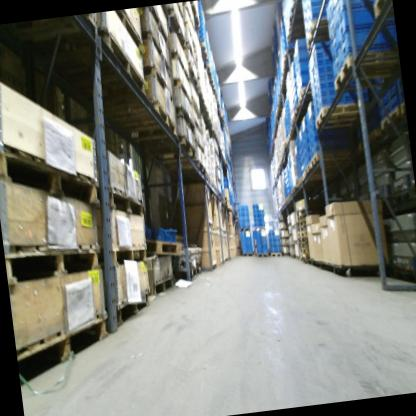pallet: (32, 27, 146, 112), (0, 128, 99, 221), (14, 310, 114, 382), (5, 240, 105, 289), (97, 96, 179, 148), (330, 45, 400, 96), (18, 14, 99, 43), (312, 98, 370, 131), (139, 134, 197, 167), (109, 288, 152, 332), (320, 252, 381, 282), (100, 181, 144, 220), (141, 27, 173, 79), (141, 60, 175, 104), (112, 9, 144, 54), (309, 146, 357, 175), (165, 156, 208, 184), (301, 15, 331, 54), (145, 230, 183, 259), (107, 240, 147, 266), (142, 5, 169, 41), (166, 45, 190, 80), (303, 160, 343, 179), (165, 5, 185, 43), (171, 75, 192, 108), (377, 105, 400, 135), (150, 275, 177, 299), (369, 0, 393, 26), (172, 262, 203, 282), (391, 261, 416, 285), (175, 107, 195, 134), (389, 187, 413, 208), (294, 87, 315, 107), (188, 0, 202, 29), (184, 65, 199, 87), (292, 102, 312, 117), (186, 42, 196, 68), (308, 256, 324, 271), (191, 98, 202, 119), (194, 136, 205, 156), (200, 42, 209, 64), (192, 117, 202, 135), (397, 95, 405, 117), (196, 103, 209, 116), (289, 182, 301, 195), (204, 64, 213, 81), (200, 116, 212, 127), (208, 79, 216, 93), (295, 218, 307, 227), (241, 250, 254, 258), (296, 177, 305, 188), (253, 224, 266, 231), (299, 171, 308, 181), (295, 213, 306, 221), (296, 224, 307, 232), (270, 250, 281, 258), (296, 207, 308, 214), (256, 252, 269, 258), (238, 226, 251, 232), (296, 235, 307, 242), (197, 90, 204, 101), (299, 246, 309, 253), (211, 89, 218, 99), (296, 230, 307, 236), (300, 255, 308, 263), (299, 252, 309, 258), (298, 241, 307, 247), (217, 189, 223, 198), (215, 99, 221, 107), (216, 107, 221, 116), (219, 117, 225, 124), (293, 0, 301, 5), (296, 257, 302, 261), (224, 200, 228, 205), (225, 205, 229, 210), (224, 197, 227, 200)
small_load_carrier: (332, 3, 376, 44), (338, 25, 380, 62), (334, 0, 373, 23), (309, 40, 332, 64), (325, 14, 340, 44), (328, 31, 341, 63), (314, 74, 335, 92), (305, 3, 325, 20), (313, 66, 333, 82), (331, 51, 344, 74), (296, 71, 313, 88), (293, 47, 308, 66), (324, 0, 336, 23), (293, 38, 306, 59), (314, 84, 329, 102), (296, 57, 309, 77), (315, 95, 330, 112), (312, 58, 331, 71), (307, 70, 317, 89), (306, 56, 314, 77), (304, 0, 325, 8), (312, 102, 320, 121), (309, 84, 317, 102), (307, 122, 318, 133), (306, 115, 316, 127), (307, 102, 314, 119), (310, 129, 319, 142), (312, 142, 321, 153), (258, 208, 265, 217), (274, 239, 281, 247), (273, 232, 280, 240), (242, 214, 250, 221), (251, 202, 258, 210), (254, 230, 261, 237), (255, 241, 262, 248), (255, 247, 262, 254), (268, 246, 275, 253), (252, 215, 259, 222), (258, 215, 265, 222), (275, 245, 281, 253), (254, 236, 261, 242), (268, 229, 274, 236), (240, 243, 247, 249), (239, 233, 246, 239), (244, 221, 250, 228), (237, 210, 243, 217), (237, 216, 244, 222), (253, 220, 259, 227), (269, 239, 274, 247), (237, 203, 242, 211), (262, 247, 268, 253), (261, 234, 267, 240), (245, 234, 251, 240), (246, 239, 252, 245), (241, 247, 247, 253), (238, 222, 244, 228), (253, 210, 259, 216), (259, 221, 265, 227), (260, 228, 265, 235), (268, 235, 275, 240), (262, 244, 268, 249), (247, 248, 253, 253), (240, 238, 246, 243), (243, 209, 248, 215), (260, 240, 267, 244), (242, 204, 247, 209), (239, 230, 245, 234), (247, 245, 252, 249)
